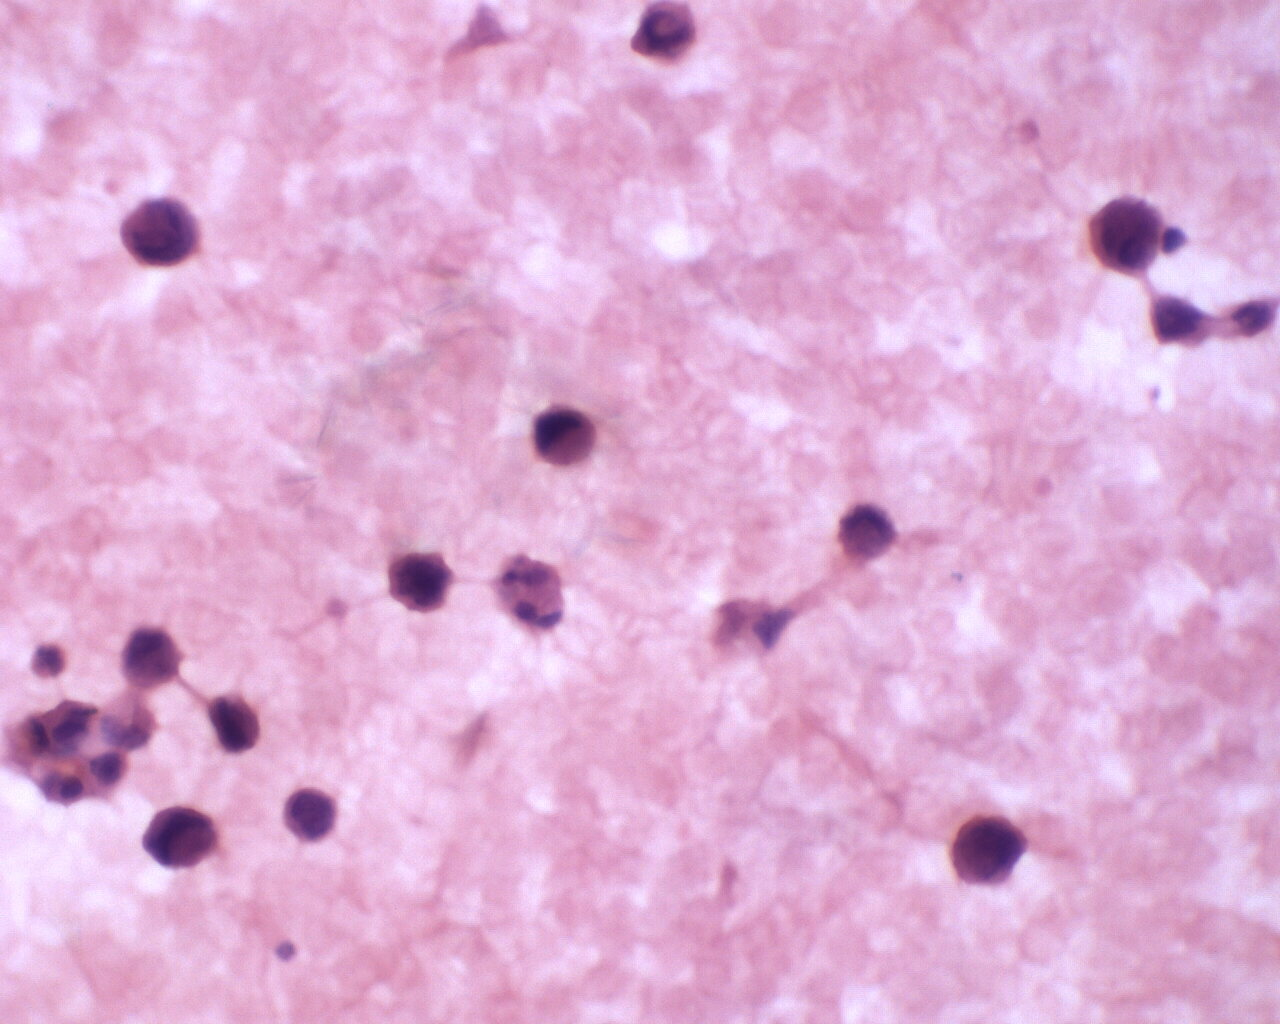ab: (1085, 186, 1167, 275), (949, 807, 1031, 892), (116, 195, 204, 271), (137, 800, 222, 872), (374, 545, 459, 616), (117, 622, 188, 695), (531, 400, 598, 472), (279, 786, 339, 847)
